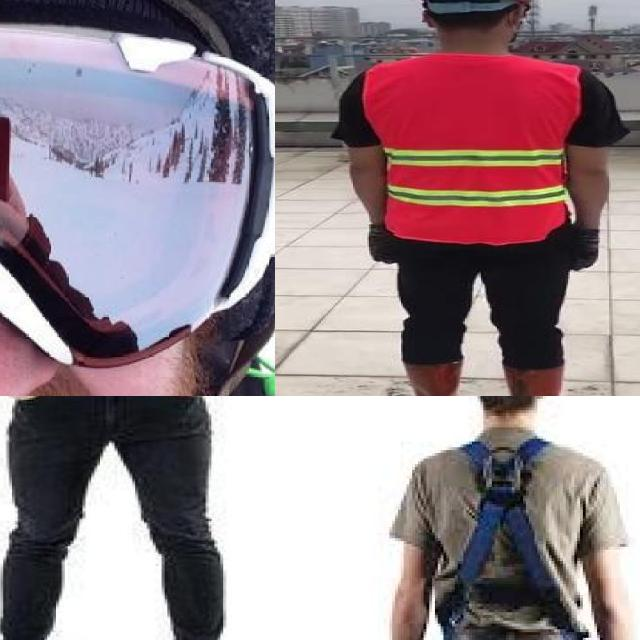Harness: (437, 438, 573, 640)
boots: (502, 364, 578, 396), (401, 361, 463, 396)
face_nomask: (0, 26, 275, 396)
glasses: (0, 15, 275, 371)
hand_glove: (367, 224, 396, 265), (574, 226, 598, 270)
person: (324, 0, 626, 396), (0, 396, 260, 640)
vest: (364, 52, 580, 244)
